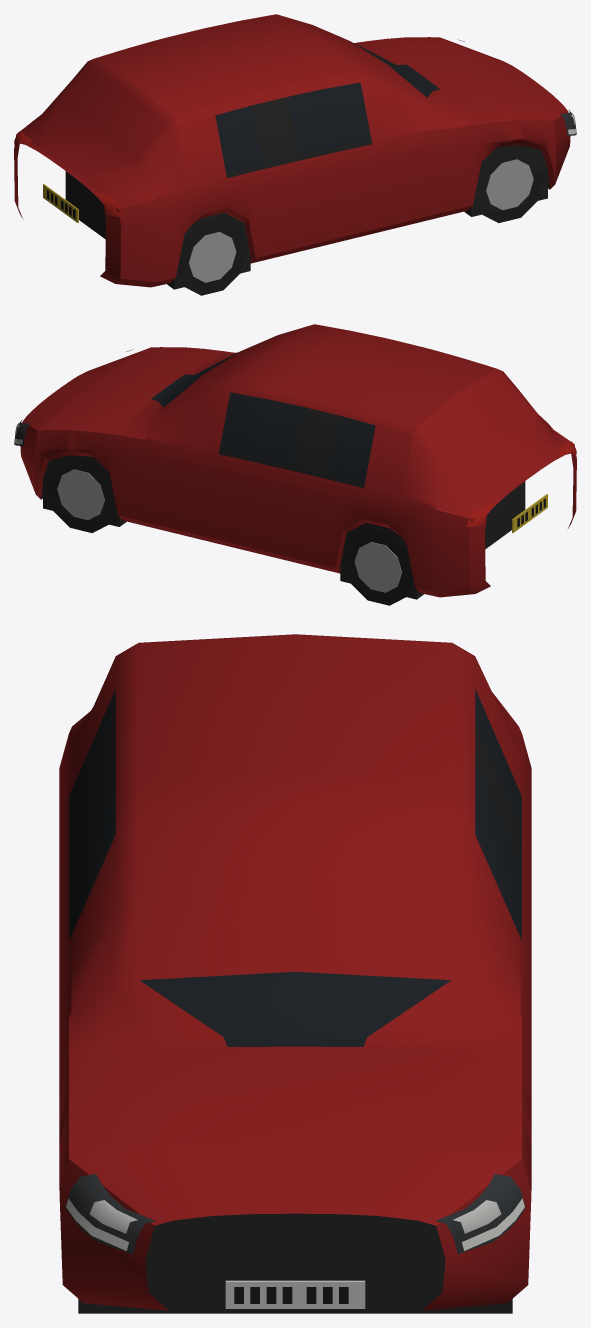
File: SM_Prop_parked_car_101_LOD1.glb
The picture shows the model from 3 angles, top to bottom: view 1: azimuth 30°, elevation 25°; view 2: azimuth 150°, elevation 25°; view 3: azimuth 270°, elevation 25°; orthographic projection. The views are drawn at different scales.
Parts seen in each view (by area): view 1: SM_Prop_parked_car_101_LOD1; view 2: SM_Prop_parked_car_101_LOD1; view 3: SM_Prop_parked_car_101_LOD1.
Part boxes in pixels (left/top/right/bottom): SM_Prop_parked_car_101_LOD1: left=14, top=14, right=576, bottom=295; SM_Prop_parked_car_101_LOD1: left=14, top=324, right=576, bottom=605; SM_Prop_parked_car_101_LOD1: left=59, top=634, right=531, bottom=1313.
Size of the model in its own units: 4.09 by 1.48 by 1.76.
